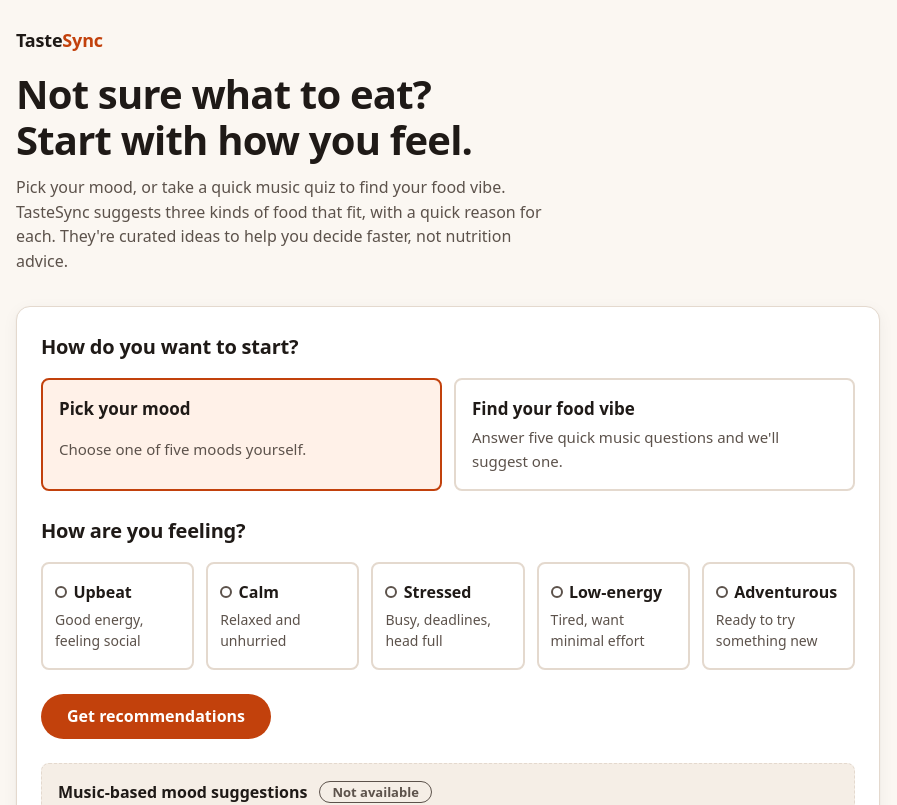
restaurant suggestions (demo list) › shows a loading state while looking up restaurants
This screenshot has width=897, height=805.
Later steps or results of the test are not shown.
Click the radio button labelled "Calm" at (283, 616), box [206,562,359,670]
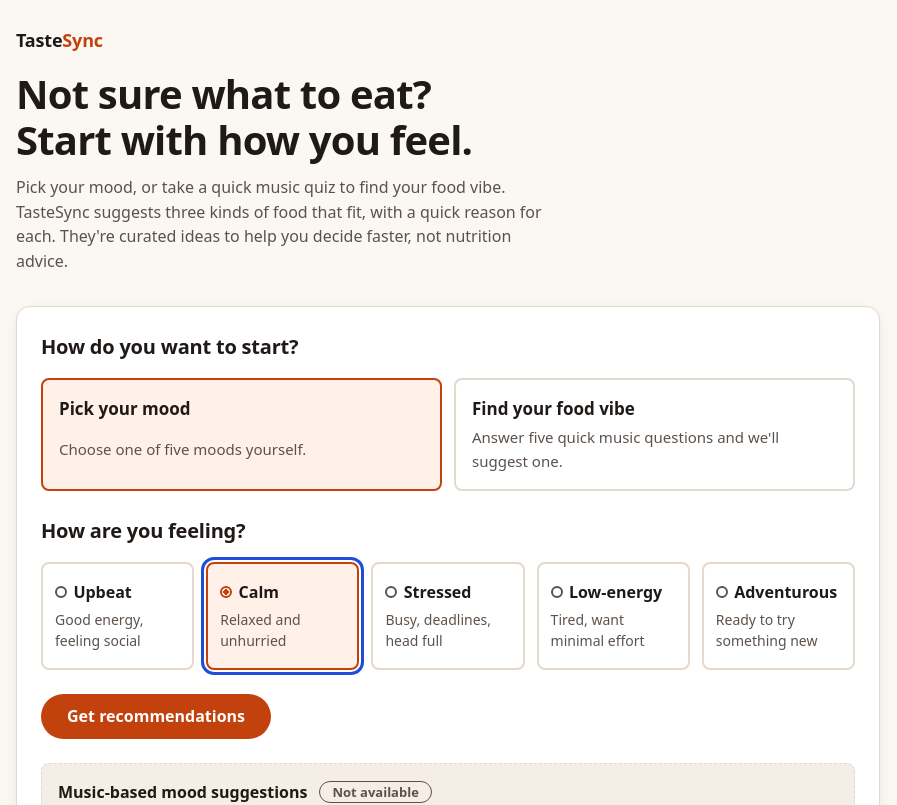
Click the button "Get recommendations" at (156, 716), box [41,694,271,739]
(page scrolled)
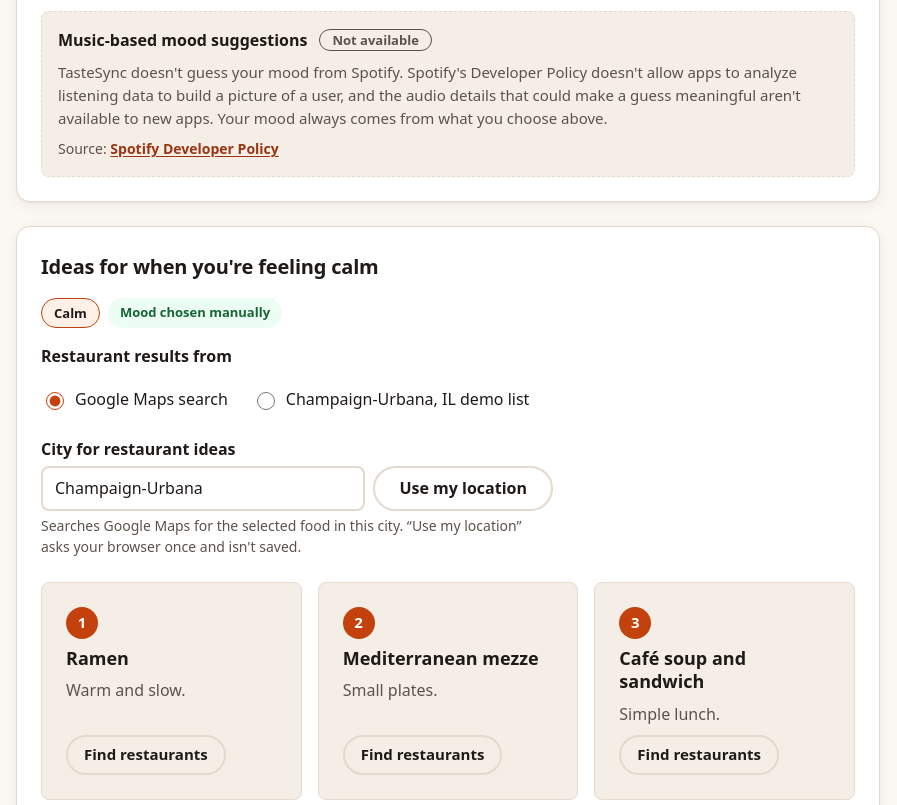
Now the heading "Ideas for when you're feeling calm" is shown, box [41,253,378,280]
Click the radio button labelled "Champaign-Urbana, IL demo list" at (266, 401), box [257,392,275,410]
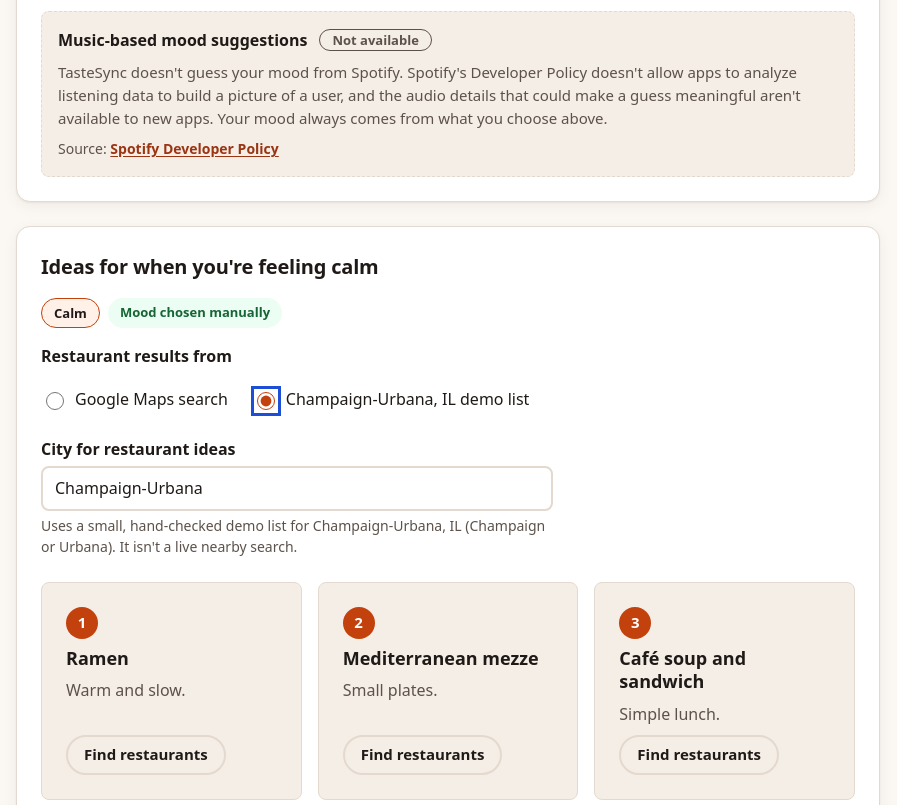
Click the button with aria-label "Find restaurants for Ramen" at (146, 755), box [66,735,226,775]
(page scrolled)
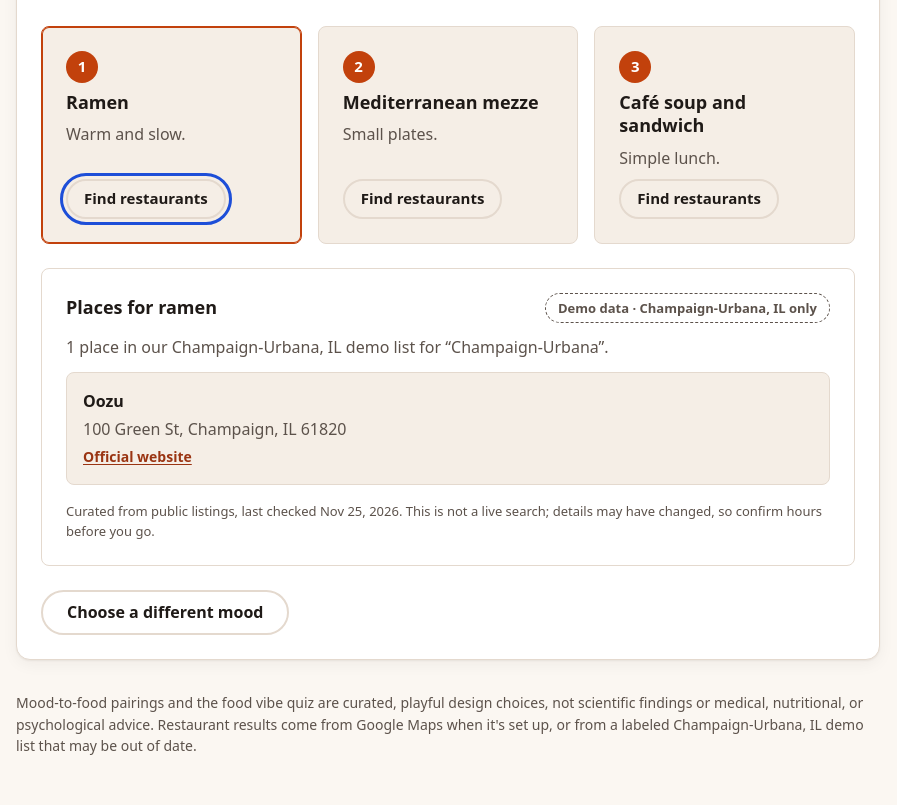
Now the text "Oozu" is shown, box [83,390,124,412]
